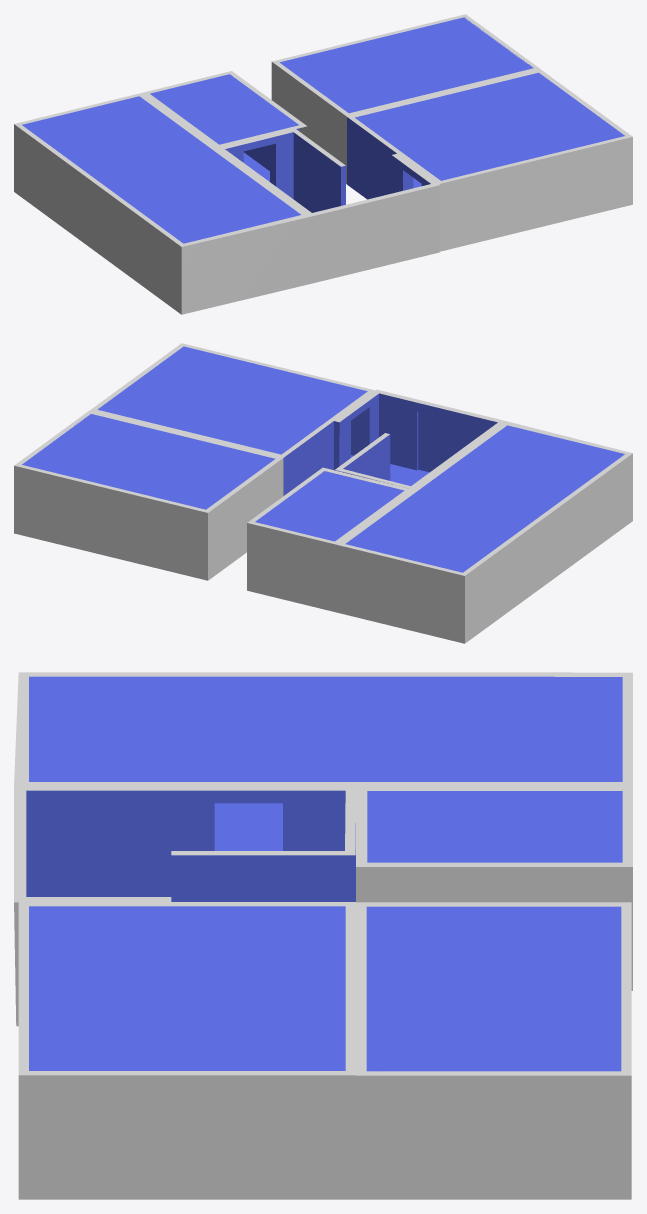
File: 1er_Piso_Final.FBX
3 views of the same model, one above another, from view 1: azimuth 30°, elevation 25°; view 2: azimuth 150°, elevation 25°; view 3: azimuth 270°, elevation 25° (orthographic). The views are drawn at different scales.
Visible parts, largest first — view 1: 1erPiso_Exterior, TECHO_1erPiso, Hall_1erPiso, Baño_1erPiso; view 2: 1erPiso_Exterior, TECHO_1erPiso, Hall_1erPiso; view 3: TECHO_1erPiso, 1erPiso_Exterior, Hall_1erPiso, Cochera_1erPiso.
Part boxes in pixels (x1,y1,x2,y2): 1erPiso_Exterior: (14,14,632,314); TECHO_1erPiso: (22,17,624,243); Hall_1erPiso: (225,117,430,212); Baño_1erPiso: (243,128,299,181); 1erPiso_Exterior: (14,343,632,643); TECHO_1erPiso: (22,346,624,572); Hall_1erPiso: (283,393,497,495); TECHO_1erPiso: (29,676,622,1071); 1erPiso_Exterior: (14,672,632,1199); Hall_1erPiso: (26,790,355,901); Cochera_1erPiso: (214,803,282,850).
Size of the model in its own units: 13.94 by 2.02 by 9.04.
